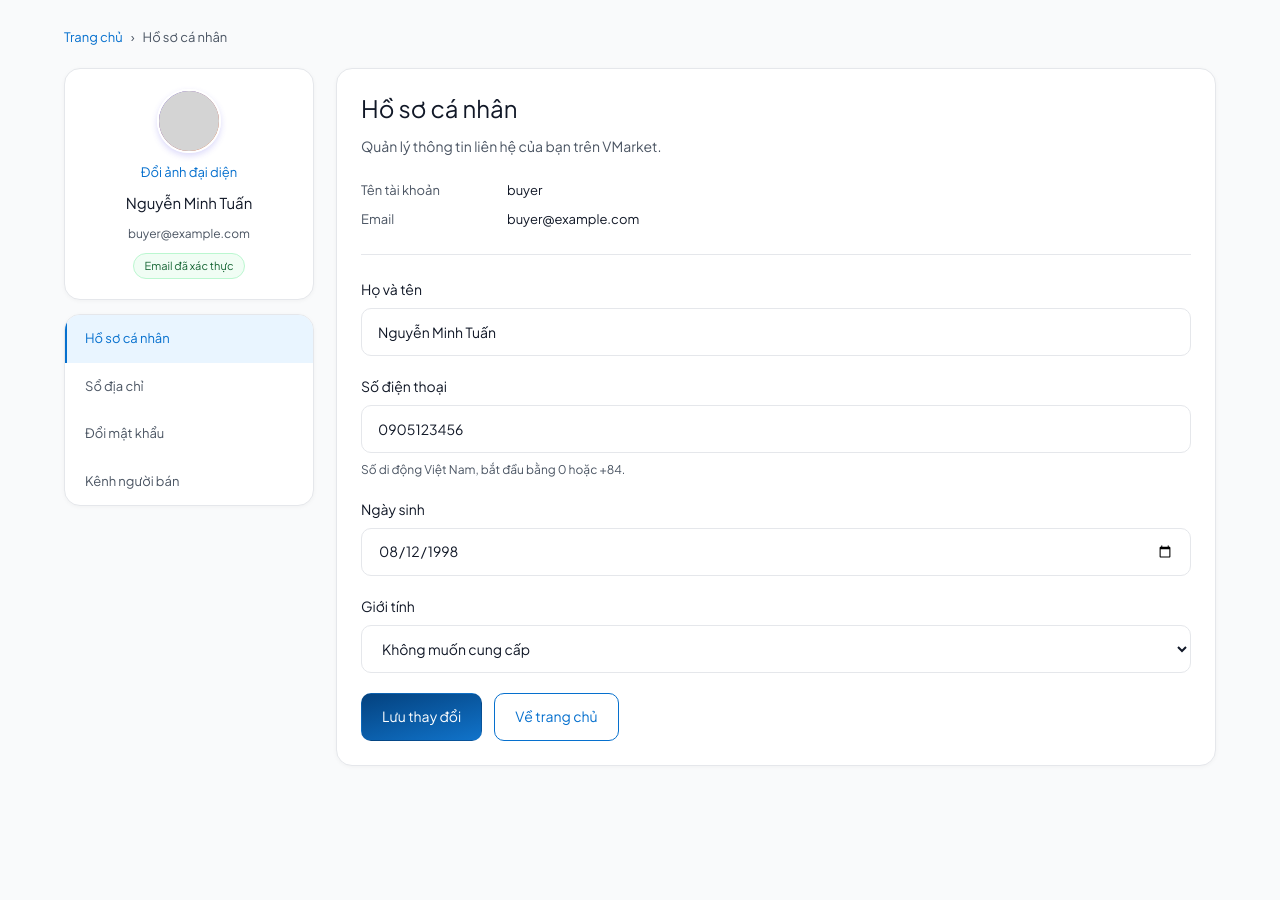
Scenario: Change avatar dialog › saves only the avatar and sends the stored name and phone back
Click the button "Đổi ảnh đại diện".
click(189, 172)  # box [141,162,237,182]
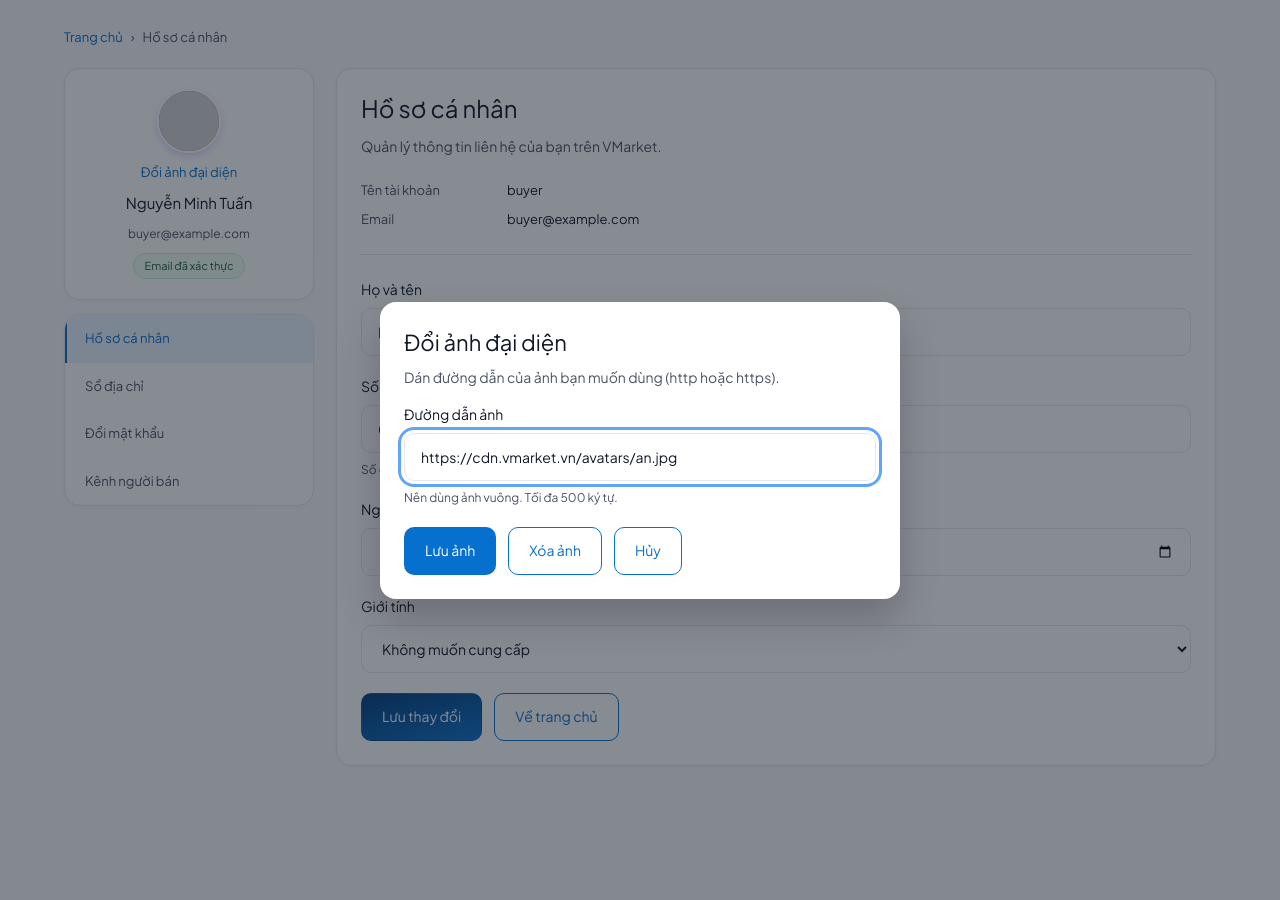
Expected: the dialog is shown, [380,302,900,598]
Replace the text in the field labelled "Đường dẫn ảnh" with "  https://example.com/new.png  " at (640, 456), box [404,432,876,480]
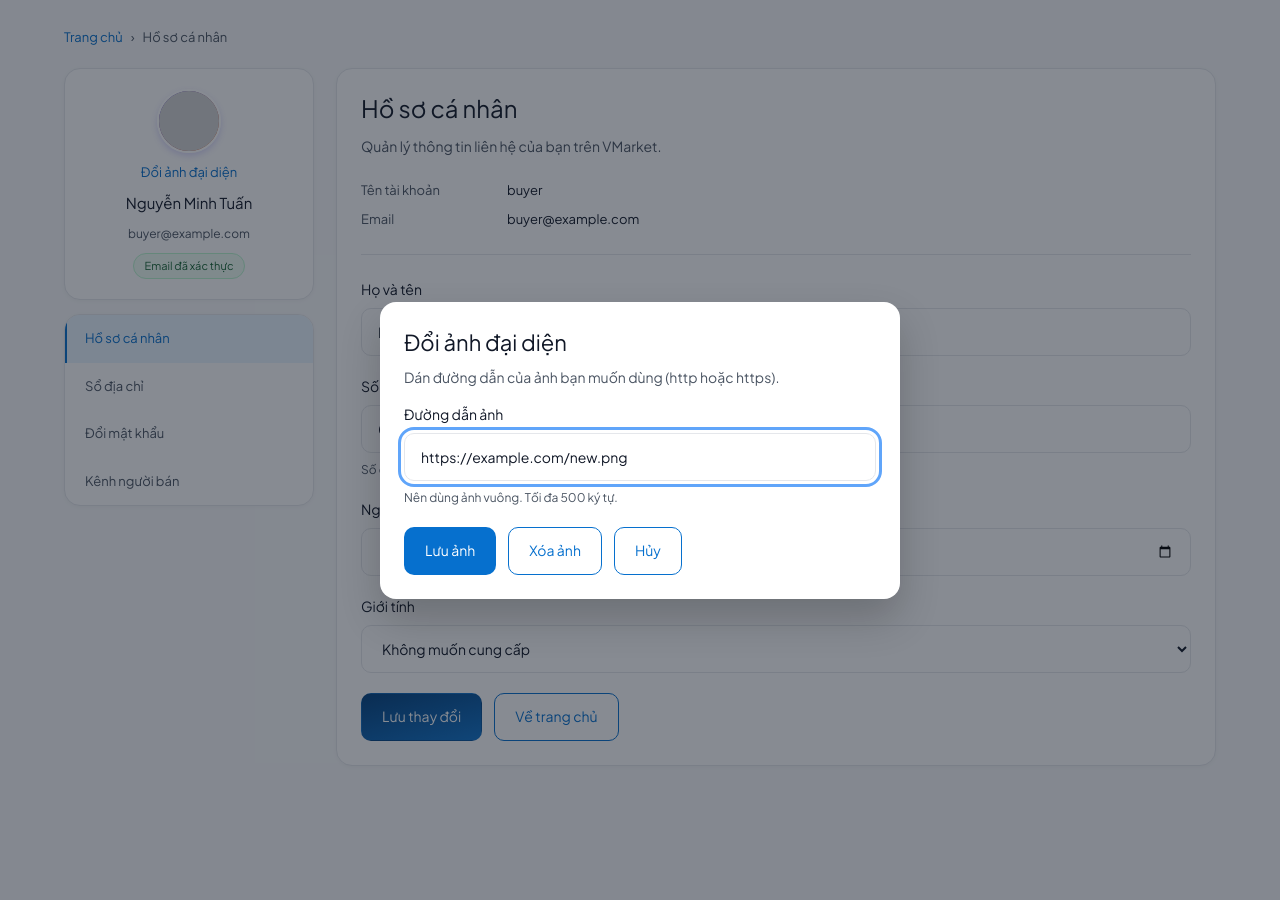
Click the button "Lưu ảnh".
click(450, 550)  # box [404,526,496,574]
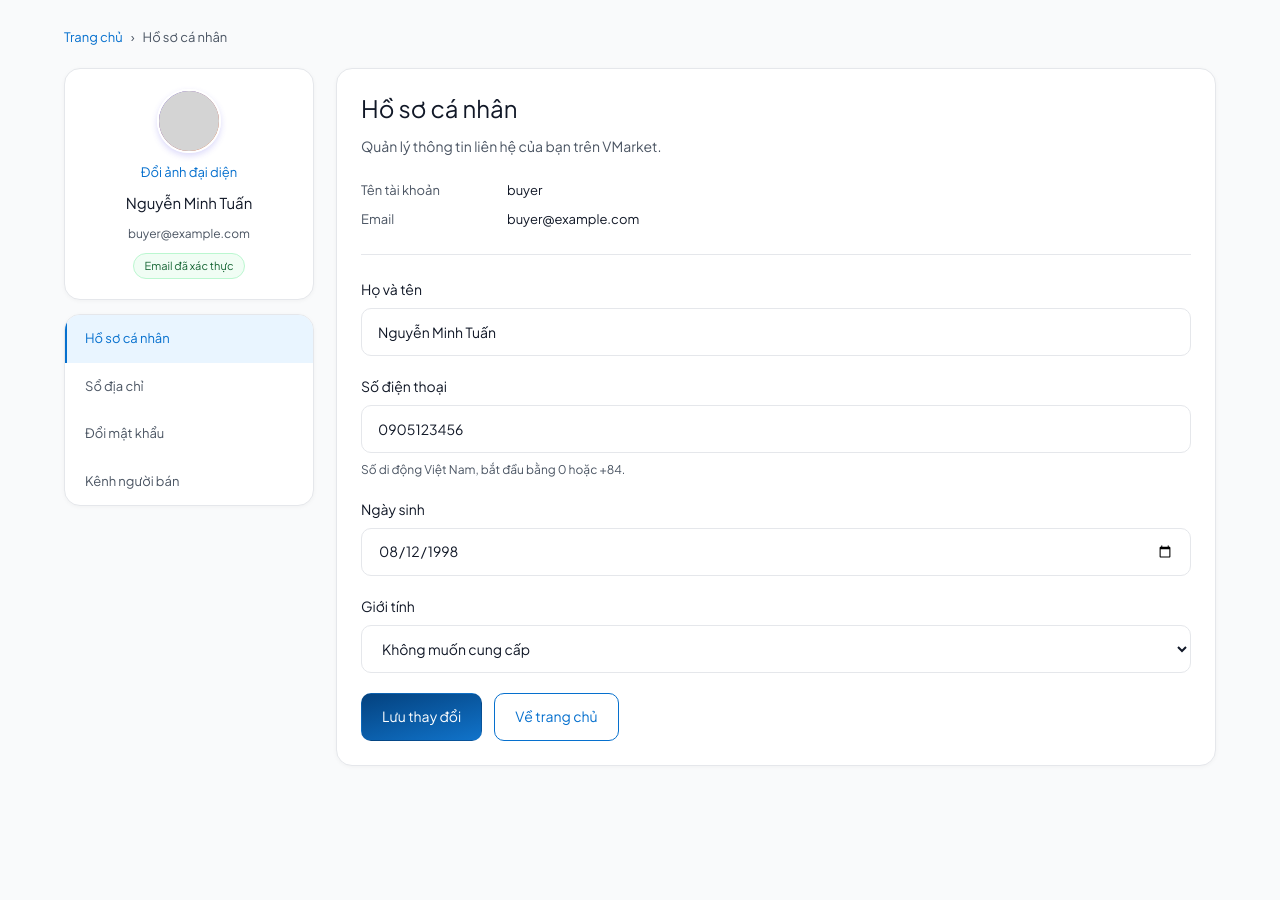
Expected: the dialog is gone
